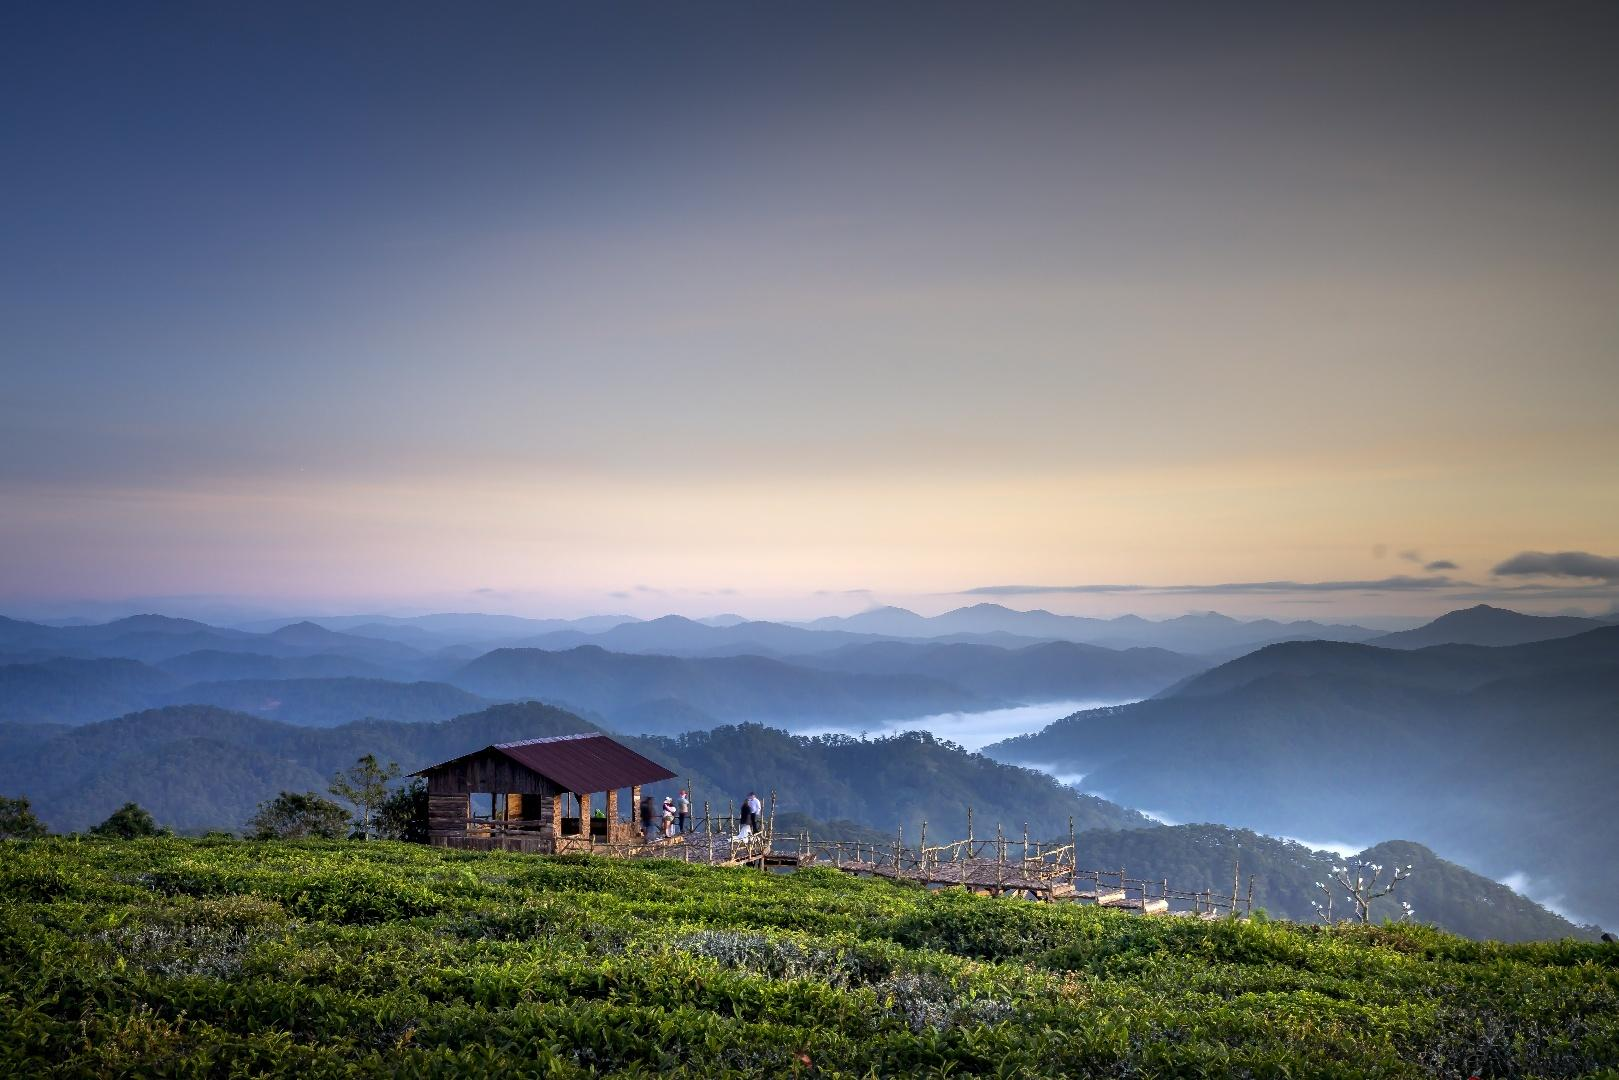biological: (1389, 1073, 1536, 1080)
